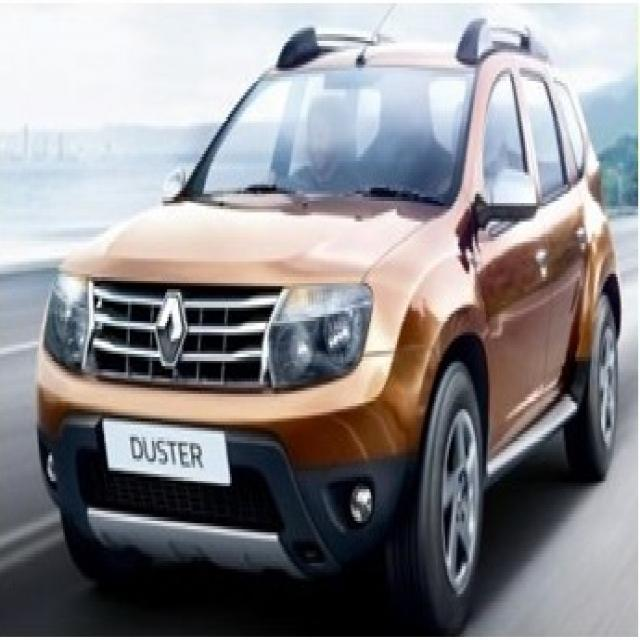license-plate: (98, 412, 226, 480)
